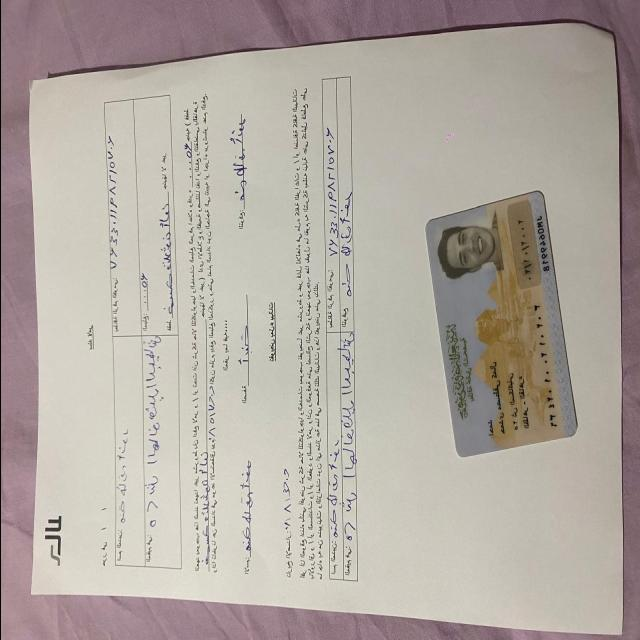ID-cards: (417, 182, 584, 467)
